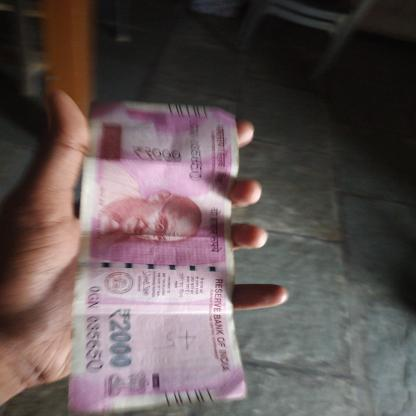New2000Front: (80, 102, 234, 404)
